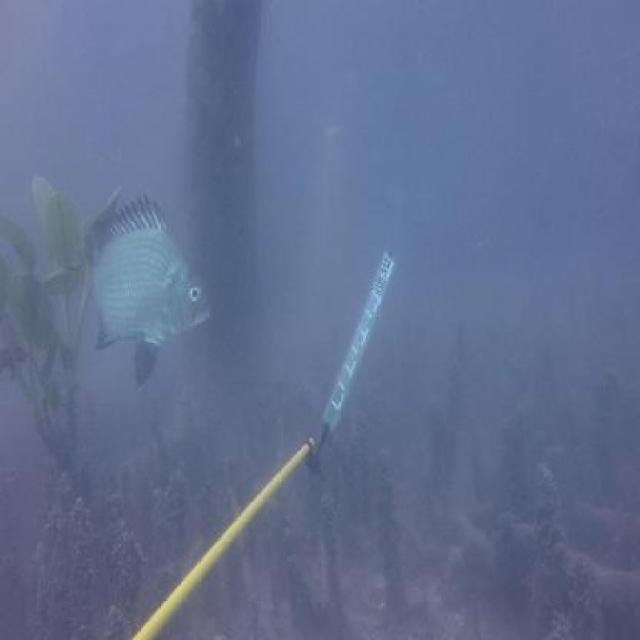acanthopagrus_palmaris: (92, 188, 215, 390)
